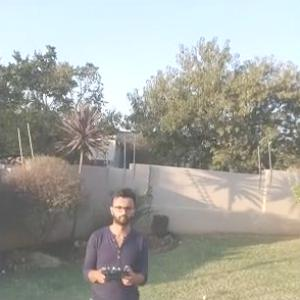follow: (79, 183, 153, 299)
